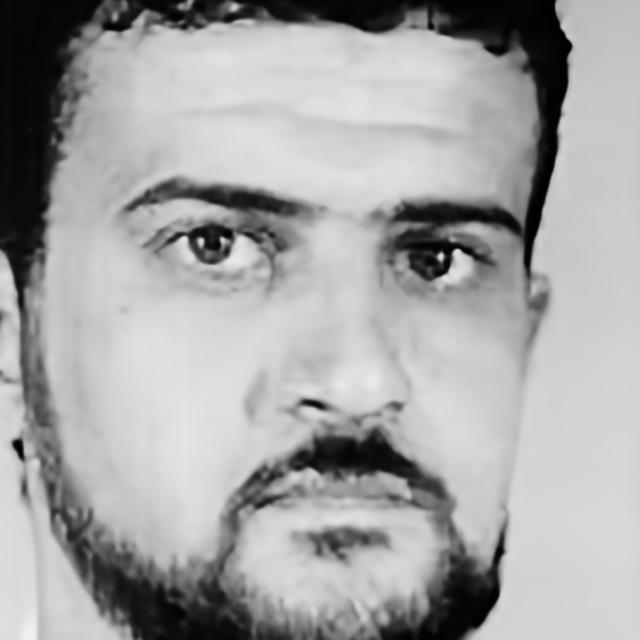neutral: (24, 0, 544, 640)
